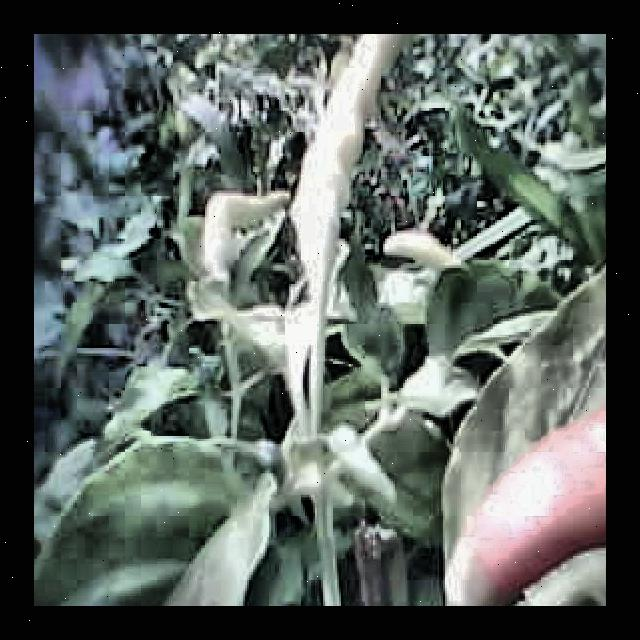Cabai: (439, 387, 606, 606)
